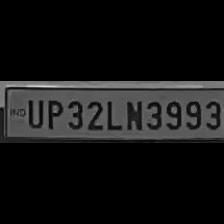2: (84, 97, 104, 131)
3: (202, 96, 222, 130), (64, 96, 82, 130), (144, 97, 162, 131)
9: (163, 96, 181, 130), (182, 96, 200, 130)
L: (102, 97, 120, 131)
N: (122, 96, 142, 132)
P: (44, 96, 62, 130)
U: (23, 97, 43, 129)
